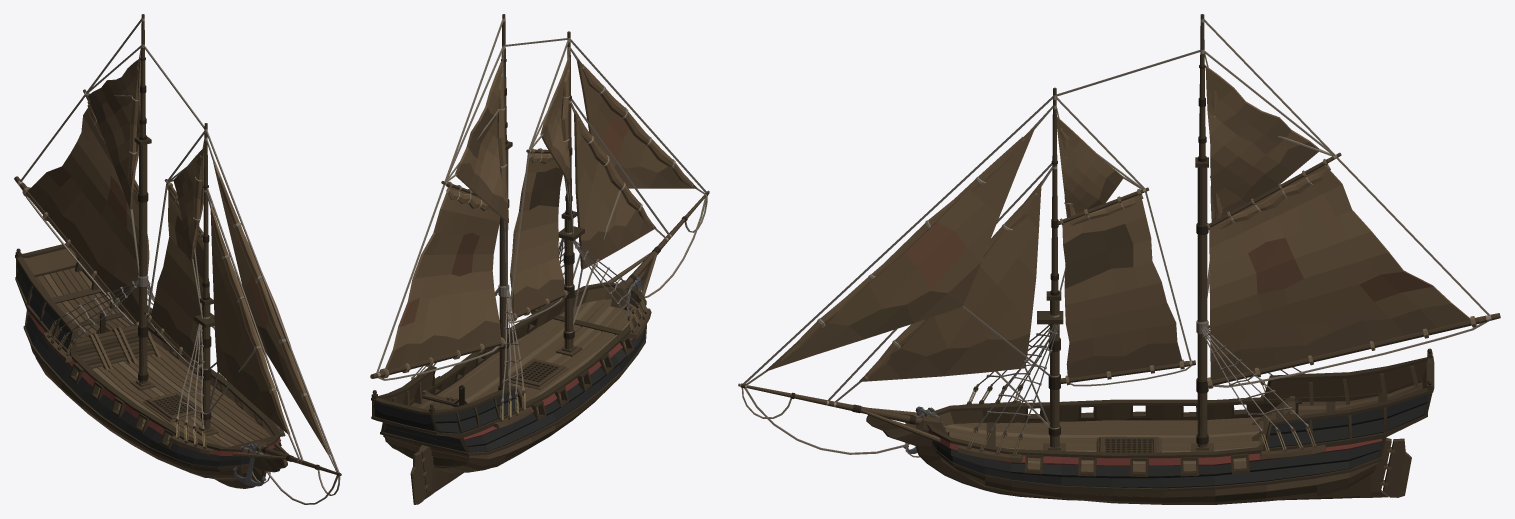
Rendered from SM_Veh_Veh_Boat_Large_01_Hull_Pirate.glb.
3 views of the same model, side by side, from view 1: azimuth 30°, elevation 25°; view 2: azimuth 150°, elevation 25°; view 3: azimuth 270°, elevation 25° (orthographic). The views are drawn at different scales.
Parts seen in each view (by area): view 1: SM_Veh_Boat_Large_Sails_01_Pirate; view 2: SM_Veh_Boat_Large_Sails_01_Pirate; view 3: SM_Veh_Boat_Large_Sails_01_Pirate.
Boxes of the visible parts, box(x1,y1,x2,y2) form: SM_Veh_Boat_Large_Sails_01_Pirate: box(14, 14, 341, 504); SM_Veh_Boat_Large_Sails_01_Pirate: box(370, 14, 709, 504); SM_Veh_Boat_Large_Sails_01_Pirate: box(738, 14, 1500, 504).
Size of the model in its own units: 0.0746 by 0.2542 by 0.3619.
